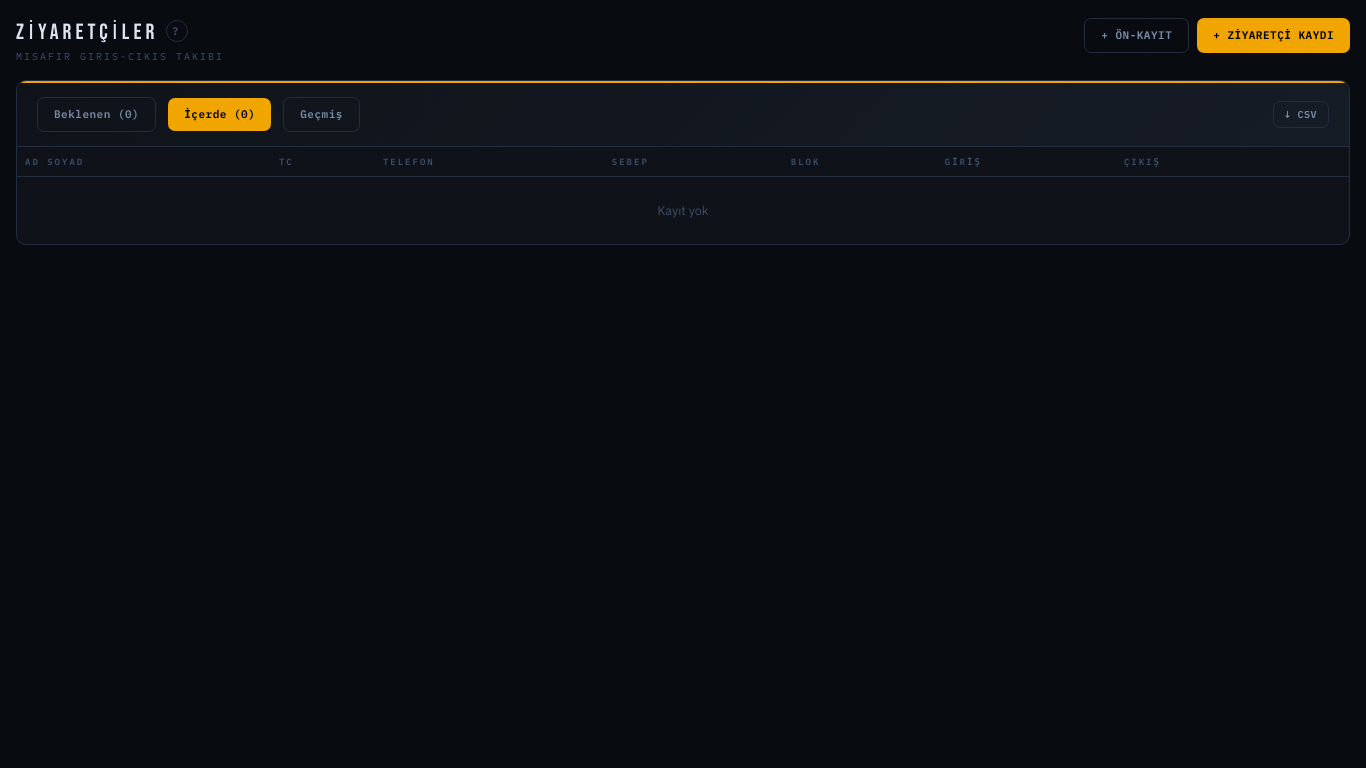
Test case: visitors/VisitorsPage smoke › ön-kayıt formunu açar ve beklenen-zaman alanını gösterir
Click the button "+ ÖN-KAYIT".
click(1137, 35)  # box [1084,18,1189,52]
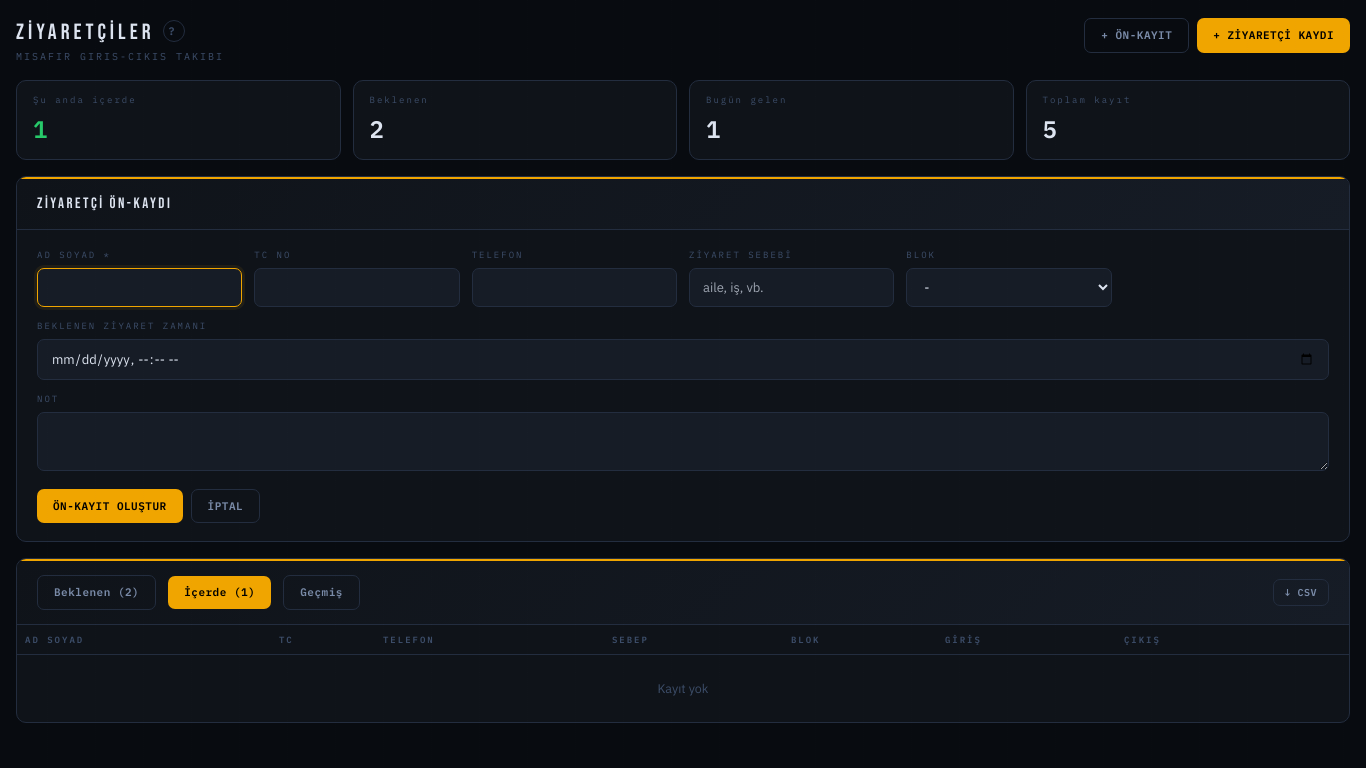
Now the text "ZİYARETÇİ ÖN-KAYDI" is shown, box [37,192,172,215]
Now the text "BEKLENEN ZİYARET ZAMANI" is shown, box [37,320,207,331]
